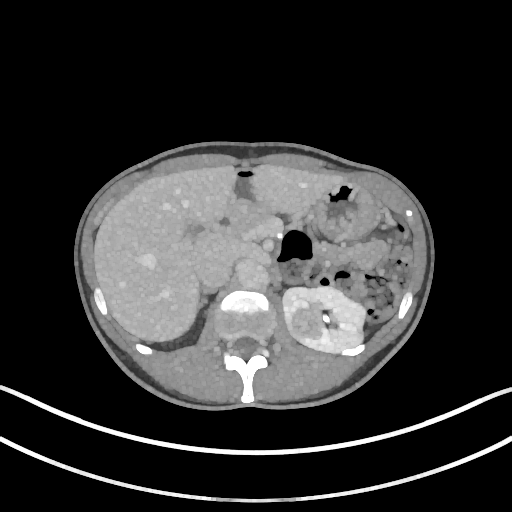Lesion: (289, 305, 322, 342)
